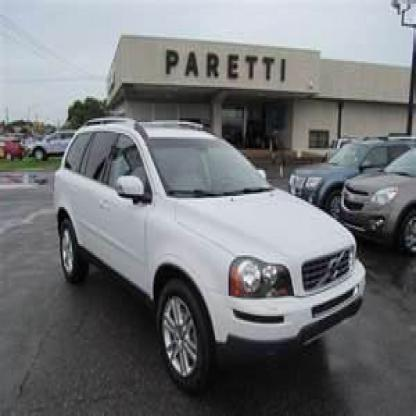Vehicle: (51, 116, 370, 398)
